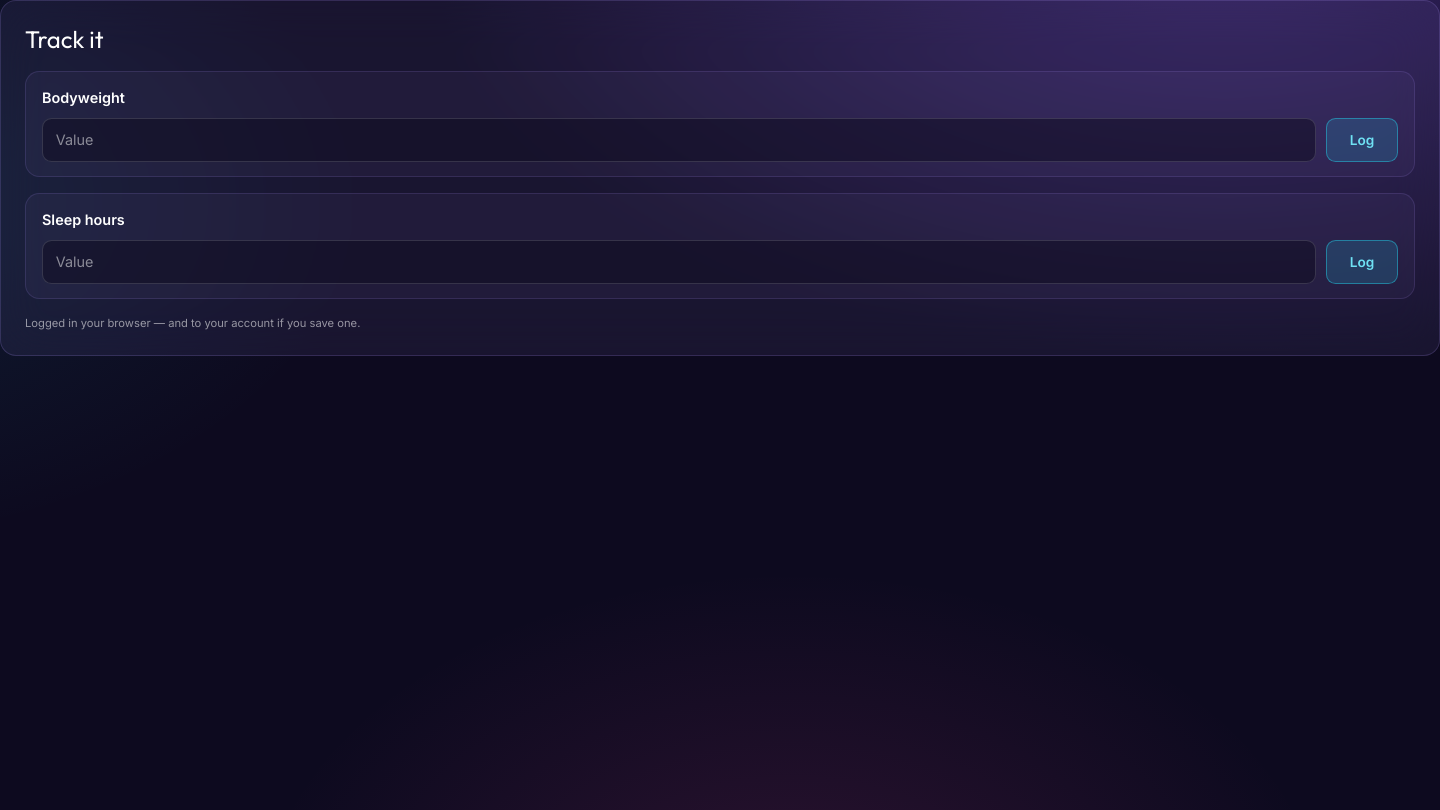
Test case: MetricTracker › logging a value adds an entry and persists it to localStorage
This screenshot has width=1440, height=810.
Type "72" into the number field with placeholder "Value" below "Bodyweight". click: (679, 140)
box: [42,118,1316,162]
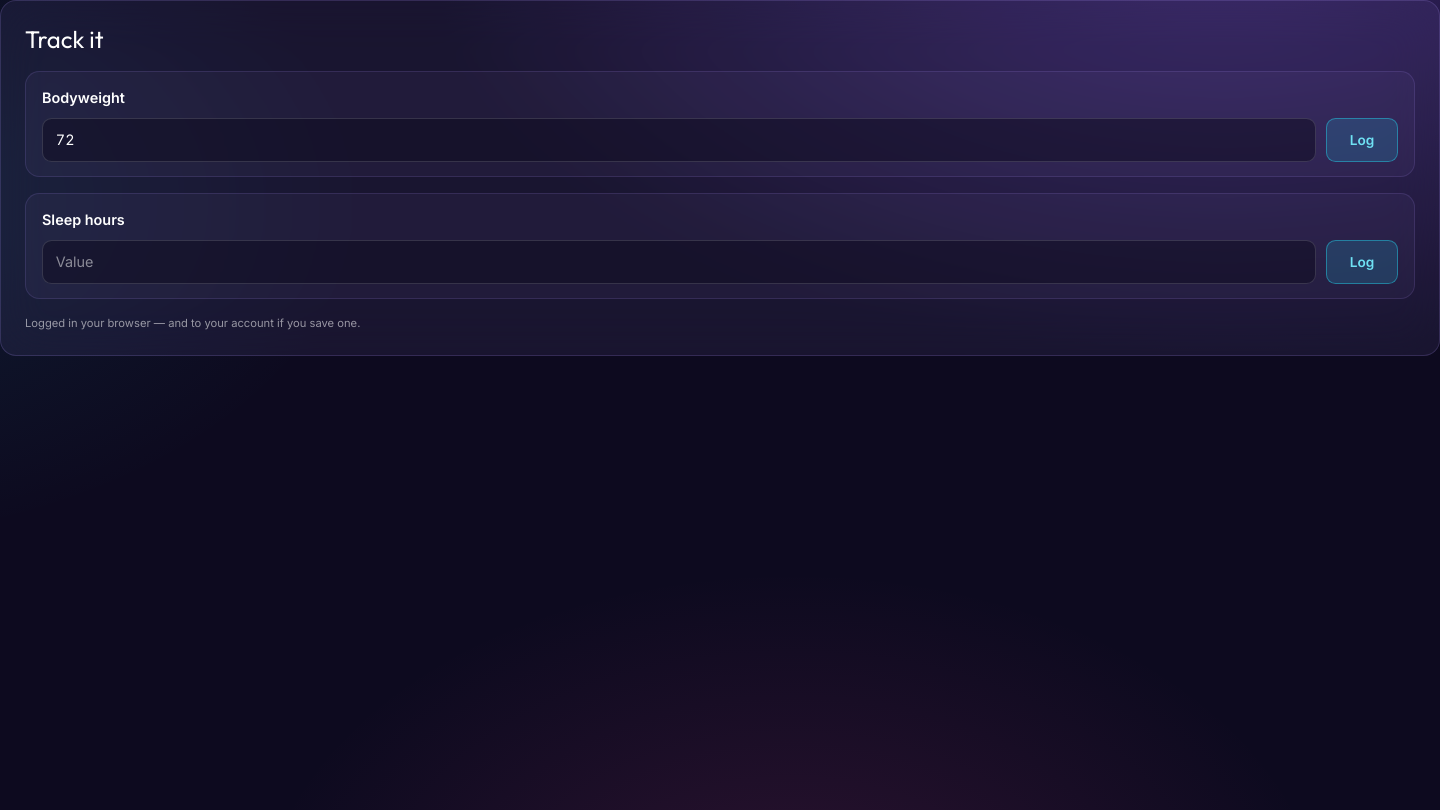
Click the 1st button "Log". click: (1362, 140)
box: [1326,118,1398,162]
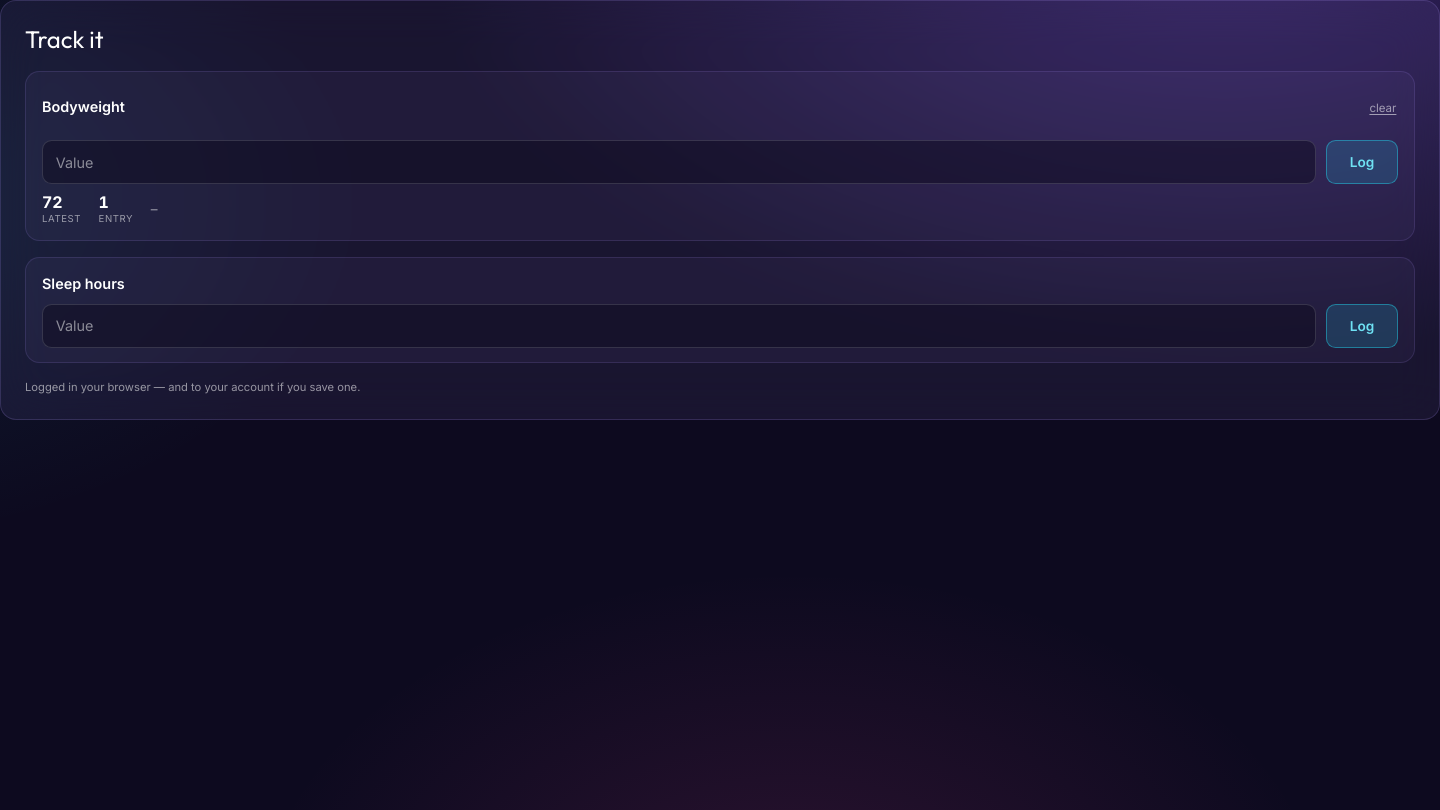
Expected: the text "72" is shown, [42,192,63,212]
Expected: the text "1" is shown, [98,192,109,212]
